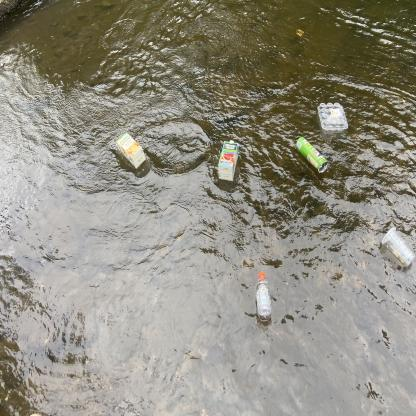trash: (379, 224, 416, 269), (294, 133, 330, 179), (114, 130, 148, 171), (214, 136, 241, 185), (314, 98, 350, 134), (254, 268, 275, 322)
